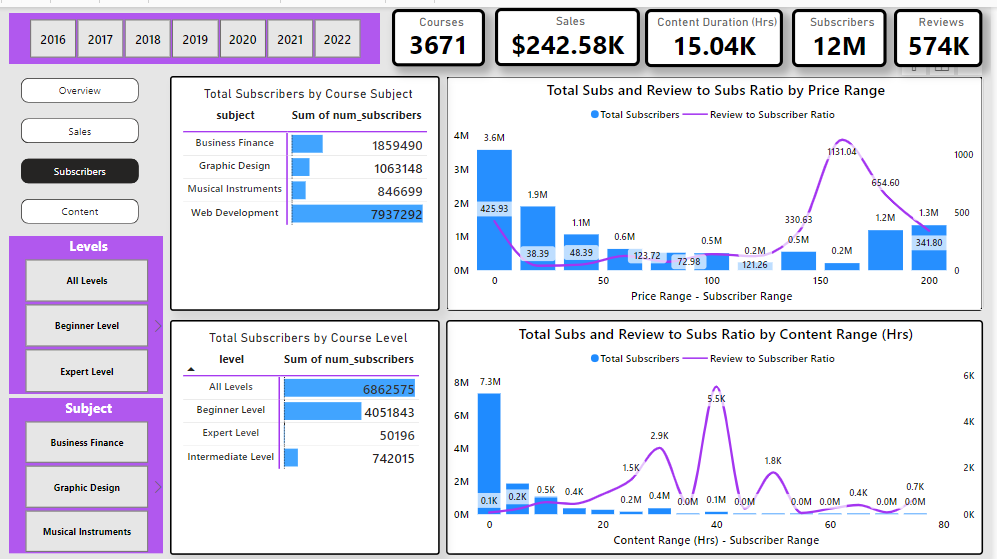

The dashboard page shown, as its layout file describes it:
{"tool":"powerbi","page":{"name":"Subscribers","canvas":[1280,720],"ordinal":2},"visuals":[{"type":"lineClusteredColumnComboChart","title":"Total Subs and Review to Subs Ratio by  Price Range ","fields":{"Category":["udemy_courses_dataset.price (bins20)"],"Y":["Sum(udemy_courses_dataset.num_subscribers)"],"Y2":["Avg(udemy_courses_dataset.num_reviews)"]},"box":[576.8,88.4,692.8,302.9],"z":0},{"type":"lineClusteredColumnComboChart","title":"Total Subs and Review to Subs Ratio by Content Range (Hrs)","fields":{"Category":["udemy_courses_dataset.content_duration (bins)"],"Y":["Sum(udemy_courses_dataset.num_subscribers)"],"Y2":["Avg(udemy_courses_dataset.num_reviews)"]},"box":[576.8,404.3,692.8,302.9],"z":1000},{"type":"pivotTable","title":"Total Subscribers by Course Subject","fields":{"Rows":["udemy_courses_dataset.subject"],"Values":["Sum(udemy_courses_dataset.num_subscribers)"]},"box":[220.3,88.4,347.8,302.9],"z":2000},{"type":"pivotTable","title":"Total Subscribers by Course Level","fields":{"Rows":["udemy_courses_dataset.level"],"Values":["Sum(udemy_courses_dataset.num_subscribers)"]},"box":[220.3,404.3,347.8,302.9],"z":3000},{"type":"card","title":"Courses","fields":{"Values":["Count(udemy_courses_dataset.course_id)"]},"box":[507.2,2.9,120.3,73.9],"z":4000},{"type":"card","title":"Sales","fields":{"Values":["Sum(udemy_courses_dataset.price)"]},"box":[640.6,1.4,187,75.4],"z":5000},{"type":"card","title":"Content Duration (Hrs)","fields":{"Values":["Sum(udemy_courses_dataset.content_duration)"]},"box":[833.3,2.9,178.3,75.4],"z":6000},{"type":"card","title":"Subscribers","fields":{"Values":["Sum(udemy_courses_dataset.num_subscribers)"]},"box":[1023.2,2.9,121.7,75.4],"z":7000},{"type":"card","title":"Reviews","fields":{"Values":["Sum(udemy_courses_dataset.num_reviews)"]},"box":[1155.1,2.9,114.5,75.4],"z":8000},{"type":"slicer","fields":{"Values":["udemy_courses_dataset.year"]},"box":[10.1,5.8,484.1,71],"z":9000},{"type":"slicer","title":"Levels","fields":{"Values":["udemy_courses_dataset.level"]},"box":[10.1,292.8,204.3,208.7],"z":10000},{"type":"slicer","title":"Subject","fields":{"Values":["udemy_courses_dataset.subject"]},"box":[10.1,501.4,204.3,205.8],"z":11000},{"type":"pageNavigator","box":[29,91.3,152.2,189.9],"z":12000}]}

Visuals, with their boxes in screenshot pixels (x1, y1, x2, y2), scaled from the page's 1280x720 canvas onto the 997x559 screenshot:
"Total Subs and Review to Subs Ratio by  Price Range " lineClusteredColumnComboChart: (449, 69, 989, 304)
"Total Subs and Review to Subs Ratio by Content Range (Hrs)" lineClusteredColumnComboChart: (449, 314, 989, 549)
"Total Subscribers by Course Subject" pivotTable: (172, 69, 442, 304)
"Total Subscribers by Course Level" pivotTable: (172, 314, 442, 549)
"Courses" card: (395, 2, 489, 60)
"Sales" card: (499, 1, 645, 60)
"Content Duration (Hrs)" card: (649, 2, 788, 61)
"Subscribers" card: (797, 2, 892, 61)
"Reviews" card: (900, 2, 989, 61)
slicer - udemy_courses_dataset.year: (8, 5, 385, 60)
"Levels" slicer: (8, 227, 167, 389)
"Subject" slicer: (8, 389, 167, 549)
pageNavigator: (23, 71, 141, 218)
